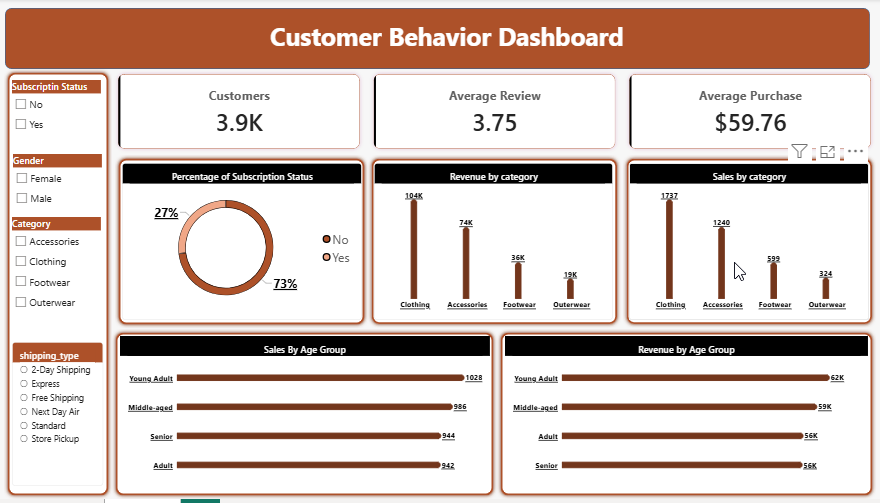

This screenshot's page, from the dashboard's own definition file:
{"tool":"powerbi","page":{"name":"dashboard","canvas":[1920,1080],"ordinal":0},"visuals":[{"type":"cardVisual","fields":{"Data":["customer_behavior customer.Customers","customer_behavior customer.Average Review","customer_behavior customer.Average Purchase"]},"box":[248.4,151.2,1648.1,183.6],"z":0},{"type":"textbox","box":[150,780,300,300],"z":1000},{"type":"shape","box":[252.7,337,546.5,373.7],"z":2000},{"type":"donutChart","title":"Percentage of Subscription Status","fields":{"Y":["customer_behavior customer.Customers"],"Category":["customer_behavior customer.subscription_status"]},"box":[267.8,354.2,518.4,339.1],"z":3000},{"type":"shape","box":[1350,337,546,373],"z":4000},{"type":"shape","box":[799.2,337,546,373],"z":5000},{"type":"columnChart","fields":{"Y":["customer_behavior customer.Revenue"],"Category":["customer_behavior customer.category"]},"box":[812.2,354.2,516.2,339.1],"z":6000},{"type":"columnChart","fields":{"Category":["customer_behavior customer.category"],"Y":["customer_behavior customer.Sales"]},"box":[1363,354.2,518.4,339.1],"z":7000},{"type":"shape","box":[1077.8,712.8,818.6,367.2],"z":8000},{"type":"clusteredBarChart","title":"Revenue by Age Group","fields":{"Y":["customer_behavior customer.Revenue"],"Category":["customer_behavior customer.age_group"]},"box":[1095.1,727.9,784.1,337],"z":9000},{"type":"shape","box":[15.1,19.4,1868.4,131.8],"z":10000},{"type":"textbox","box":[587.5,43.2,980.6,183.6],"z":11000},{"type":"shape","box":[13,151.2,233.3,928.8],"z":12000},{"type":"shape","box":[246.2,712.8,831.6,367.2],"z":13000},{"type":"clusteredBarChart","title":"Sales By Age Group","fields":{"Y":["customer_behavior customer.Sales"],"Category":["customer_behavior customer.age_group"]},"box":[263.5,727.9,799.2,337],"z":14000},{"type":"slicer","title":"Subscriptin Status","fields":{"Values":["customer_behavior customer.subscription_status"]},"box":[30.2,175,192.2,136.1],"z":15000},{"type":"slicer","title":"Gender","fields":{"Values":["customer_behavior customer.gender"]},"box":[32.4,334.8,192.2,136.1],"z":16000},{"type":"slicer","title":"Category","fields":{"Values":["customer_behavior customer.category"]},"box":[30.2,470.9,192.2,241.9],"z":17000},{"type":"listSlicer","fields":{"Values":["customer_behavior customer.shipping_type"]},"box":[30.2,740.9,196.6,311],"z":18000}]}

Visuals, with their boxes in screenshot pixels (x1, y1, x2, y2), scaled from the page's 1920x1080 canvas onto the 880x503 screenshot:
cardVisual - customer_behavior customer.Customers x customer_behavior customer.Average Review: x1=114 y1=70 x2=869 y2=156
textbox: x1=69 y1=363 x2=206 y2=502
shape: x1=116 y1=157 x2=366 y2=331
"Percentage of Subscription Status" donutChart: x1=123 y1=165 x2=360 y2=323
shape: x1=619 y1=157 x2=869 y2=331
shape: x1=366 y1=157 x2=617 y2=331
columnChart - customer_behavior customer.Revenue x customer_behavior customer.category: x1=372 y1=165 x2=609 y2=323
columnChart - customer_behavior customer.category x customer_behavior customer.Sales: x1=625 y1=165 x2=862 y2=323
shape: x1=494 y1=332 x2=869 y2=502
"Revenue by Age Group" clusteredBarChart: x1=502 y1=339 x2=861 y2=496
shape: x1=7 y1=9 x2=863 y2=70
textbox: x1=269 y1=20 x2=719 y2=106
shape: x1=6 y1=70 x2=113 y2=502
shape: x1=113 y1=332 x2=494 y2=502
"Sales By Age Group" clusteredBarChart: x1=121 y1=339 x2=487 y2=496
"Subscriptin Status" slicer: x1=14 y1=82 x2=102 y2=145
"Gender" slicer: x1=15 y1=156 x2=103 y2=219
"Category" slicer: x1=14 y1=219 x2=102 y2=332
listSlicer - customer_behavior customer.shipping_type: x1=14 y1=345 x2=104 y2=490
